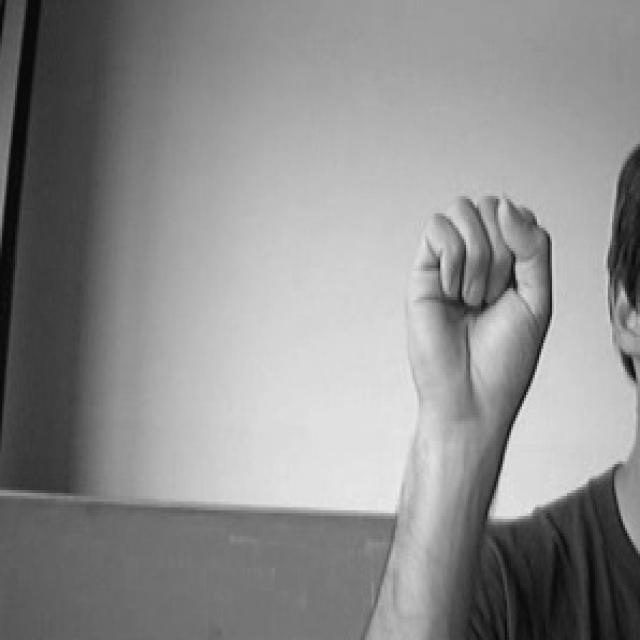S: (404, 187, 570, 445)
